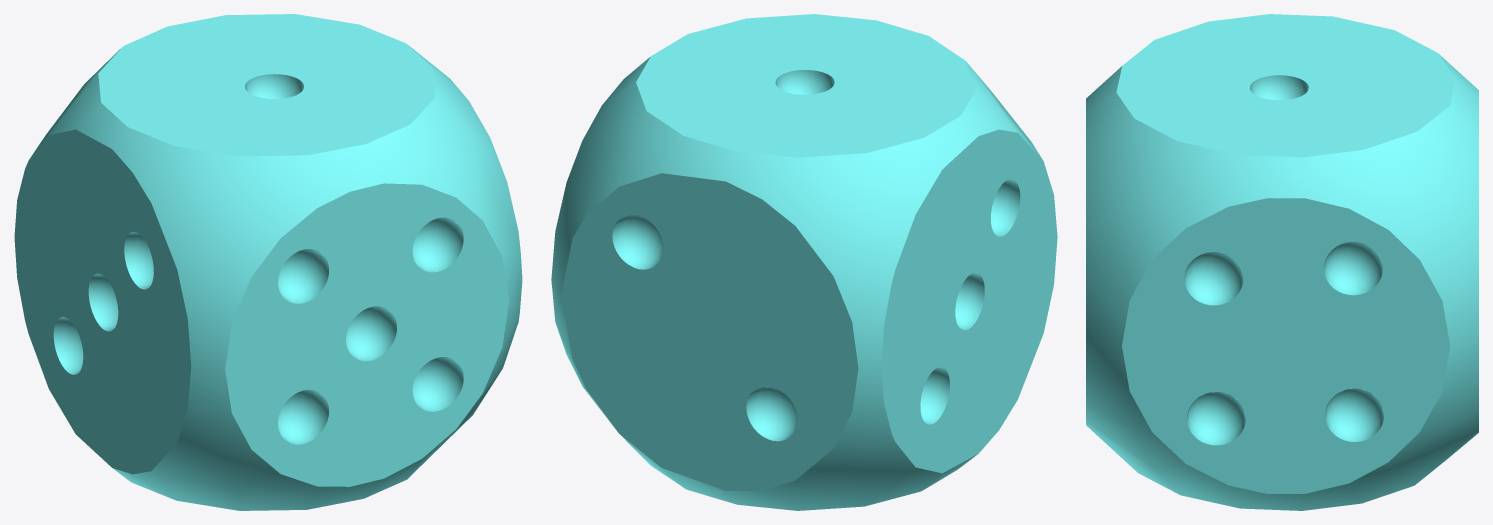
Rendered from rounded 6 sided diegb.fbx.
3 renders of one model, left to right at view 1: azimuth 30°, elevation 25°; view 2: azimuth 150°, elevation 25°; view 3: azimuth 270°, elevation 25°, orthographic.
Parts seen in each view (by area): view 1: Object_1; view 2: Object_1; view 3: Object_1.
Part boxes in pixels (bbox=[...]): Object_1: bbox=[14, 14, 522, 510]; Object_1: bbox=[551, 14, 1057, 510]; Object_1: bbox=[1086, 14, 1478, 510].
Bounding box in the file's own units: 1.99 × 2.01 × 2.02.
